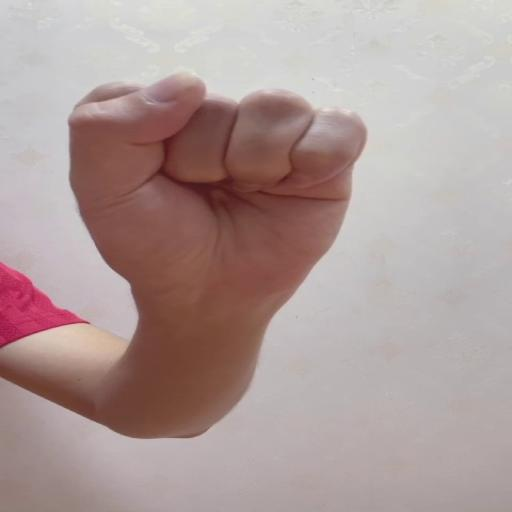fist: (64, 67, 370, 293)
